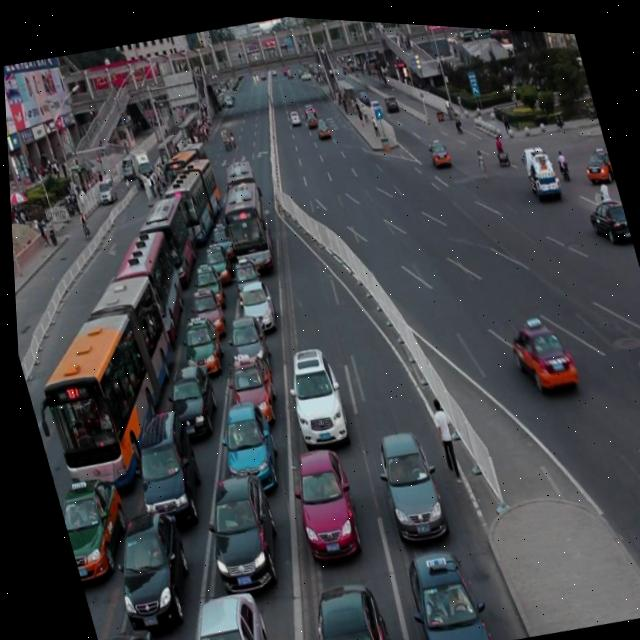bus: (514, 133, 558, 192)
car: (95, 505, 197, 632), (190, 470, 286, 597), (118, 407, 205, 530), (391, 537, 487, 640), (279, 443, 361, 559), (49, 471, 134, 582), (366, 424, 446, 540), (276, 343, 350, 448), (497, 302, 576, 393), (209, 398, 281, 494), (289, 574, 387, 640), (168, 586, 270, 640), (159, 360, 221, 440), (219, 349, 279, 426), (221, 310, 272, 379), (173, 311, 225, 376), (579, 184, 631, 241), (233, 278, 276, 331), (185, 286, 225, 336), (575, 133, 614, 179), (186, 258, 223, 306), (226, 253, 263, 299), (195, 238, 232, 284), (205, 219, 235, 261), (89, 626, 161, 640), (424, 130, 449, 163), (313, 114, 329, 136)
van: (11, 268, 201, 504), (96, 223, 194, 353), (154, 152, 230, 247), (130, 192, 202, 289), (214, 177, 276, 272), (219, 155, 267, 230), (157, 137, 212, 189)
